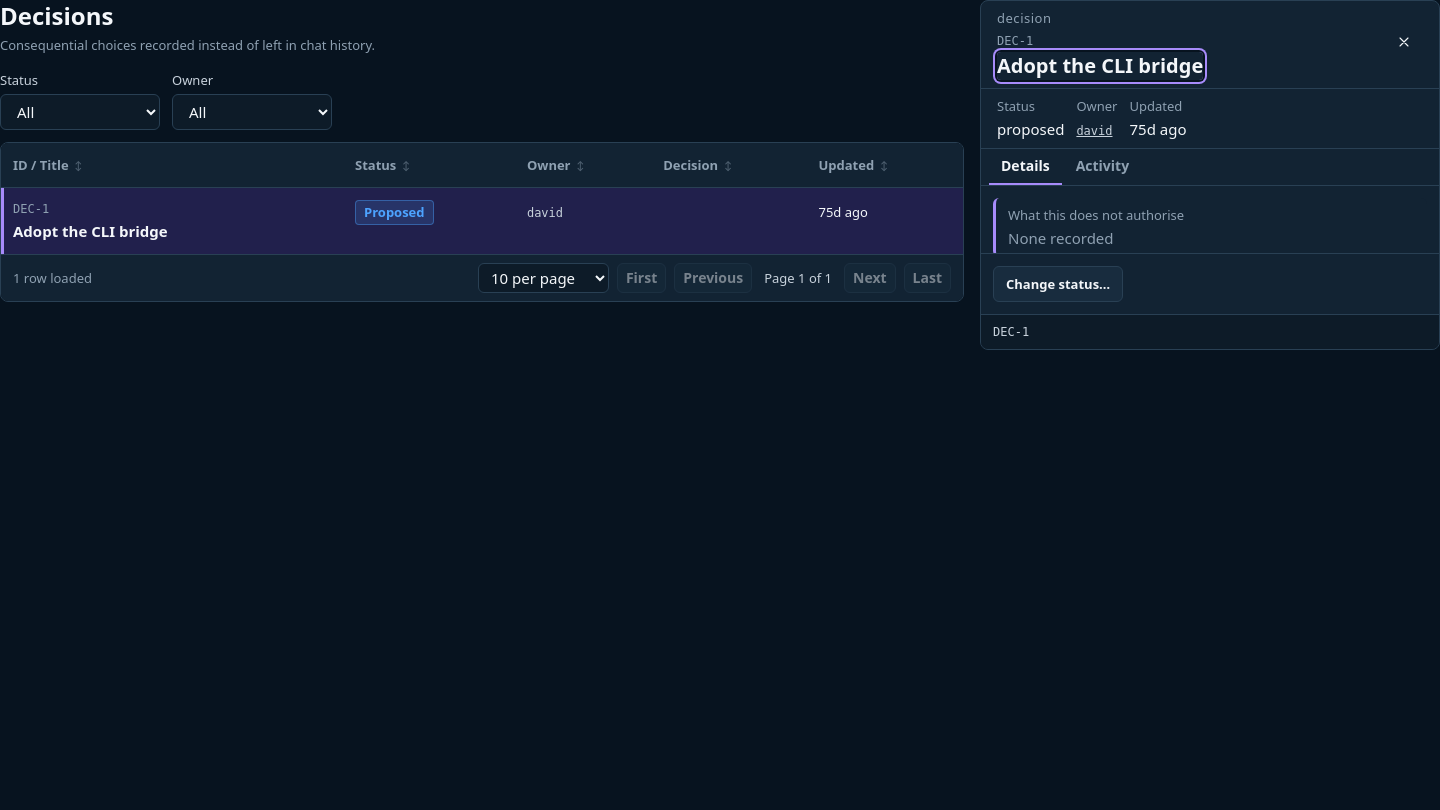
Escape across layers › closes the sheet on top and leaves the inspector beneath it open
Expected: the element "decision DEC-1" is shown, left=980, top=0, right=1439, bottom=350
Click the button "Change status…". click: point(1058, 284)
box: left=993, top=266, right=1123, bottom=302
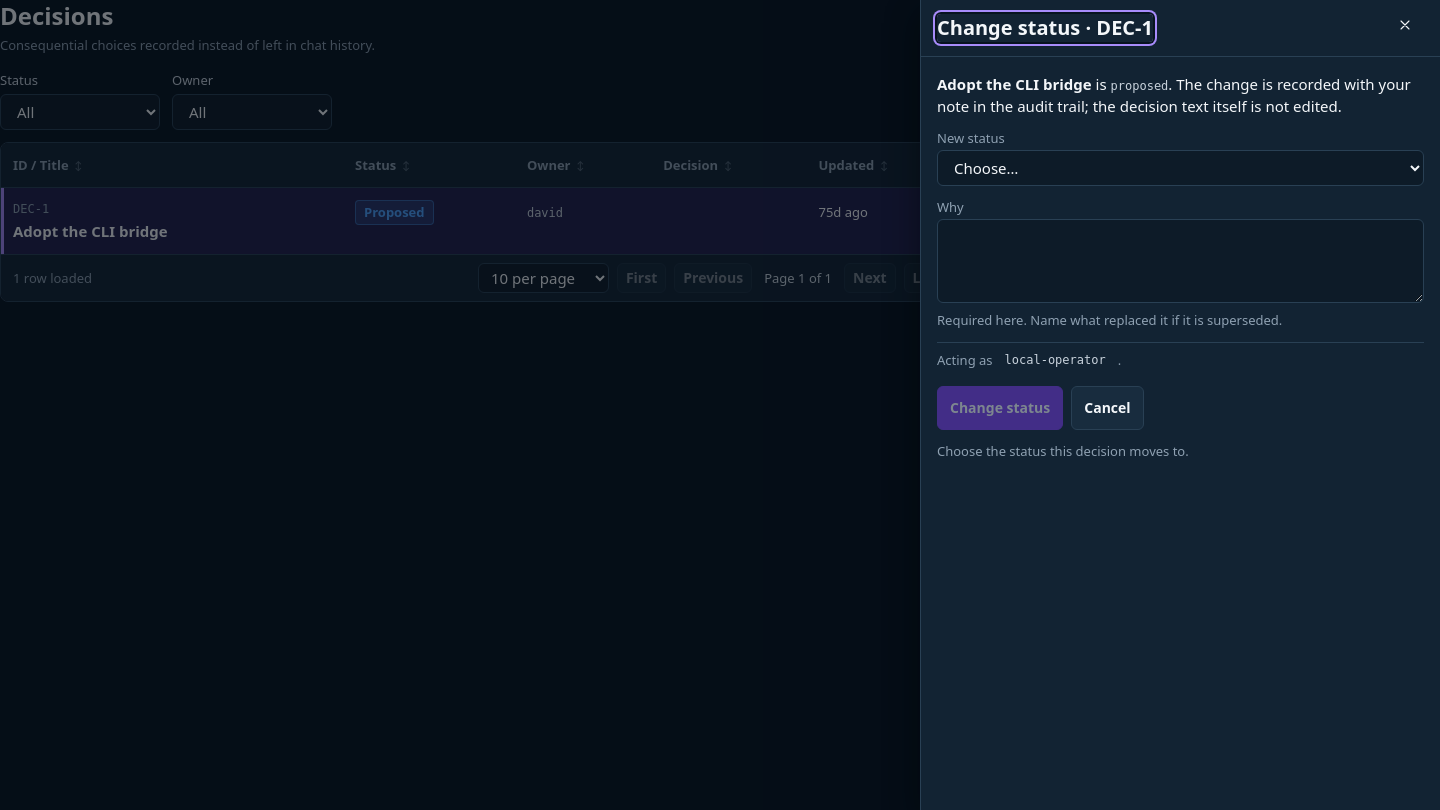
Now the dialog is shown, box left=920, top=0, right=1439, bottom=809
Press Escape
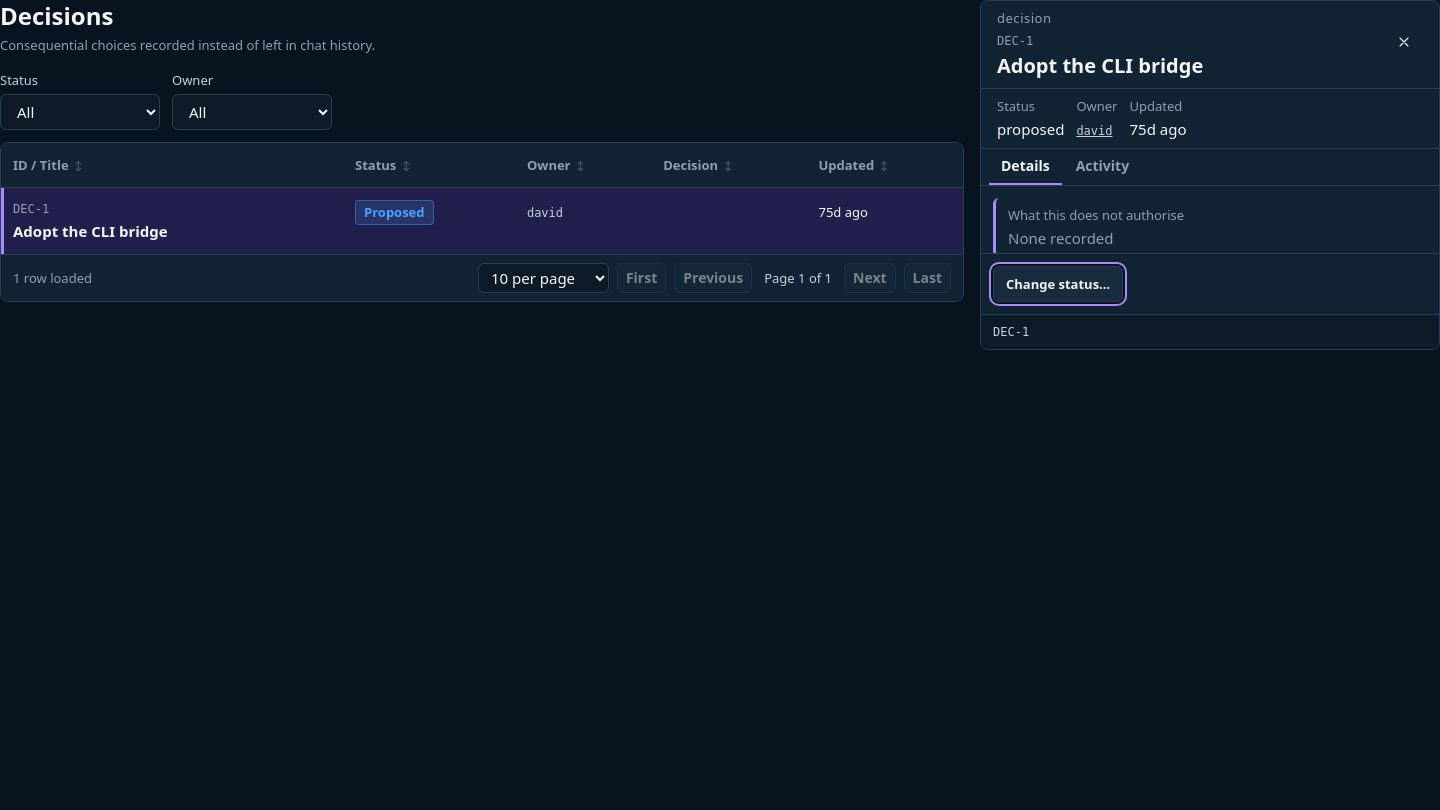
Expected: the element "decision DEC-1" is shown, left=980, top=0, right=1439, bottom=350
Now the dialog is gone
